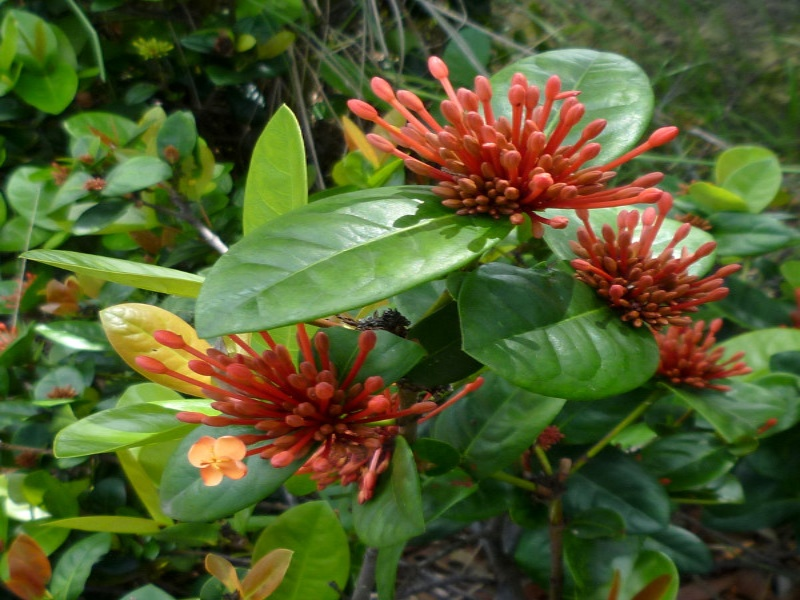Ixora: (120, 280, 509, 521), (326, 29, 677, 242), (568, 207, 766, 403)
